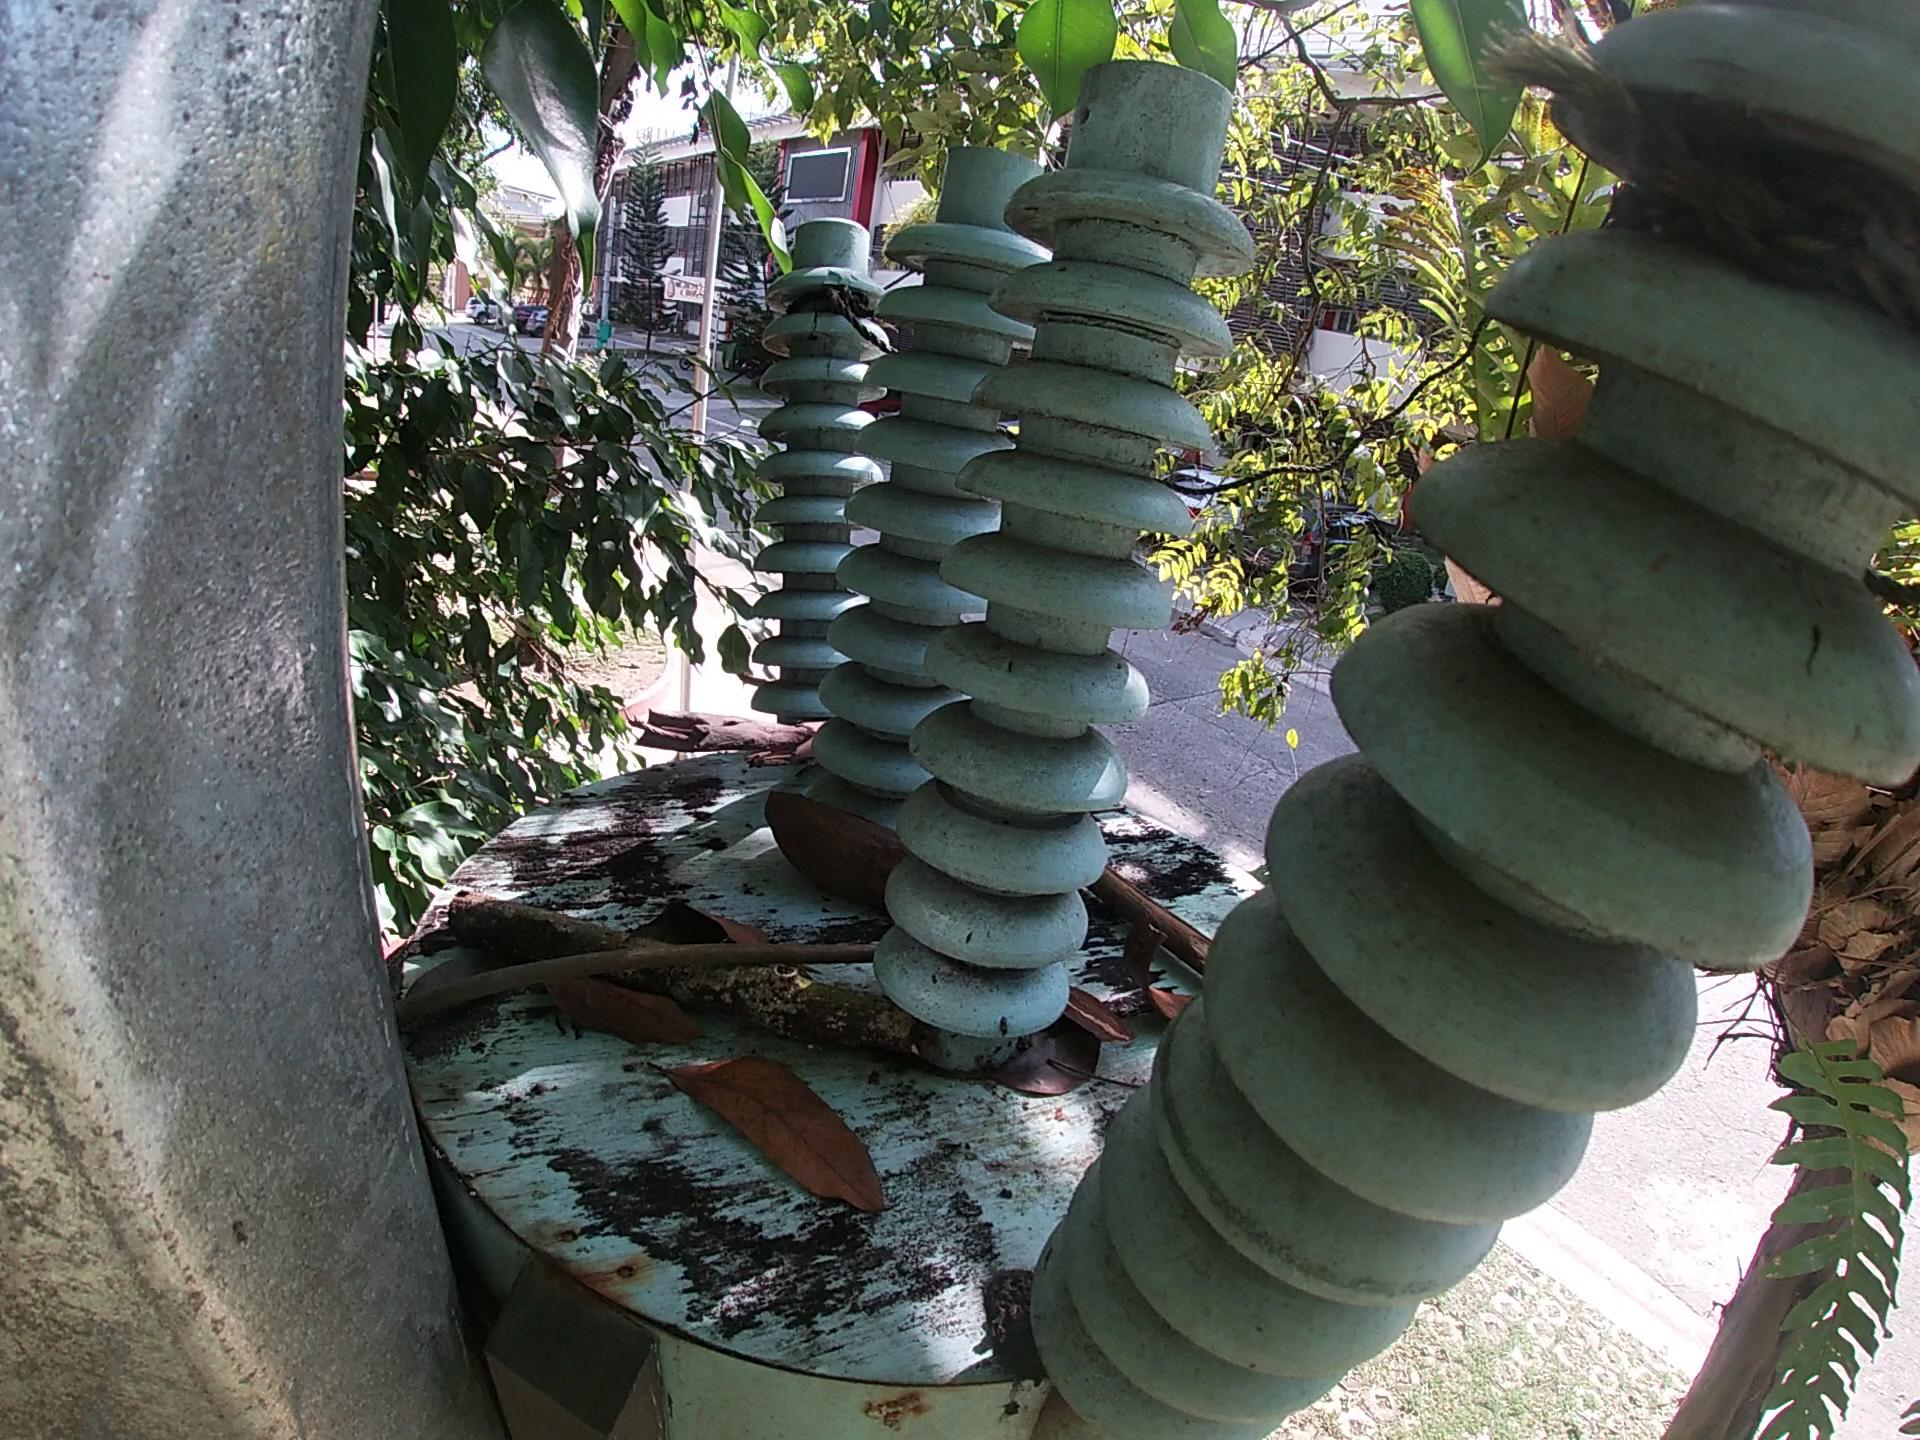leaf: (644, 1053, 897, 1225), (540, 974, 715, 1051), (958, 1024, 1107, 1100), (618, 906, 774, 947)
mahogany fruit: (756, 787, 907, 914), (1129, 911, 1197, 1023), (1058, 986, 1132, 1045)
tree branch: (441, 889, 921, 1060), (384, 936, 886, 1027), (1089, 867, 1219, 974), (621, 706, 825, 774)
